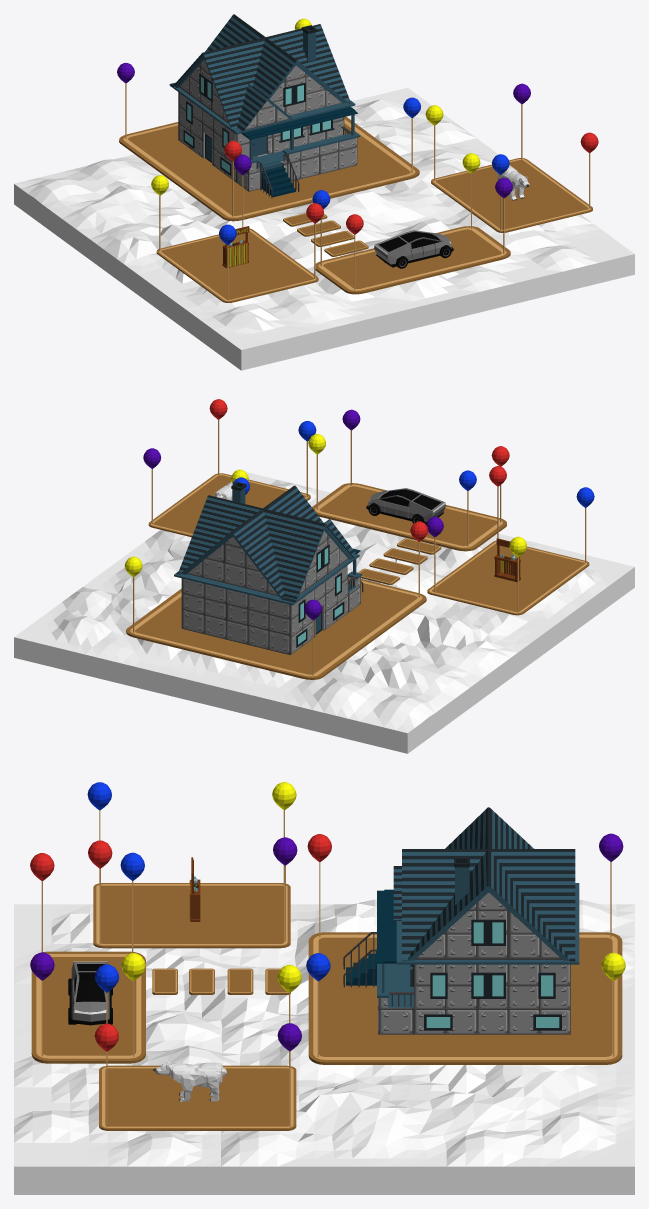
The picture shows the model from 3 angles, top to bottom: view 1: azimuth 30°, elevation 25°; view 2: azimuth 150°, elevation 25°; view 3: azimuth 270°, elevation 25°; orthographic projection. The views are drawn at different scales.
Parts seen in each view (by area): view 1: Cube.013, Cube.078, VEHICLES_CYBERTRUCK, OBJRANDOM_LEMONADE_STAND, ANIMAL_OSO_POLAR; view 2: Cube.013, Cube.078, VEHICLES_CYBERTRUCK, OBJRANDOM_LEMONADE_STAND; view 3: Cube.013, Cube.078, VEHICLES_CYBERTRUCK, ANIMAL_OSO_POLAR, OBJRANDOM_LEMONADE_STAND.
Boxes of the visible parts, x1,y1,x2,y2 form: Cube.013: (14, 18, 634, 370); Cube.078: (169, 14, 360, 198); VEHICLES_CYBERTRUCK: (374, 230, 453, 268); OBJRANDOM_LEMONADE_STAND: (222, 226, 249, 268); ANIMAL_OSO_POLAR: (497, 165, 529, 200); Cube.013: (14, 399, 634, 753); Cube.078: (174, 482, 363, 655); VEHICLES_CYBERTRUCK: (366, 488, 445, 524); OBJRANDOM_LEMONADE_STAND: (494, 538, 520, 581); Cube.013: (14, 782, 634, 1194); Cube.078: (343, 807, 579, 1034); VEHICLES_CYBERTRUCK: (68, 961, 112, 1025); ANIMAL_OSO_POLAR: (153, 1060, 226, 1101); OBJRANDOM_LEMONADE_STAND: (189, 857, 200, 921).
Size of the model in its own units: 4000 by 1704 by 4000.
Materials: 34 (3 with a texture image).
